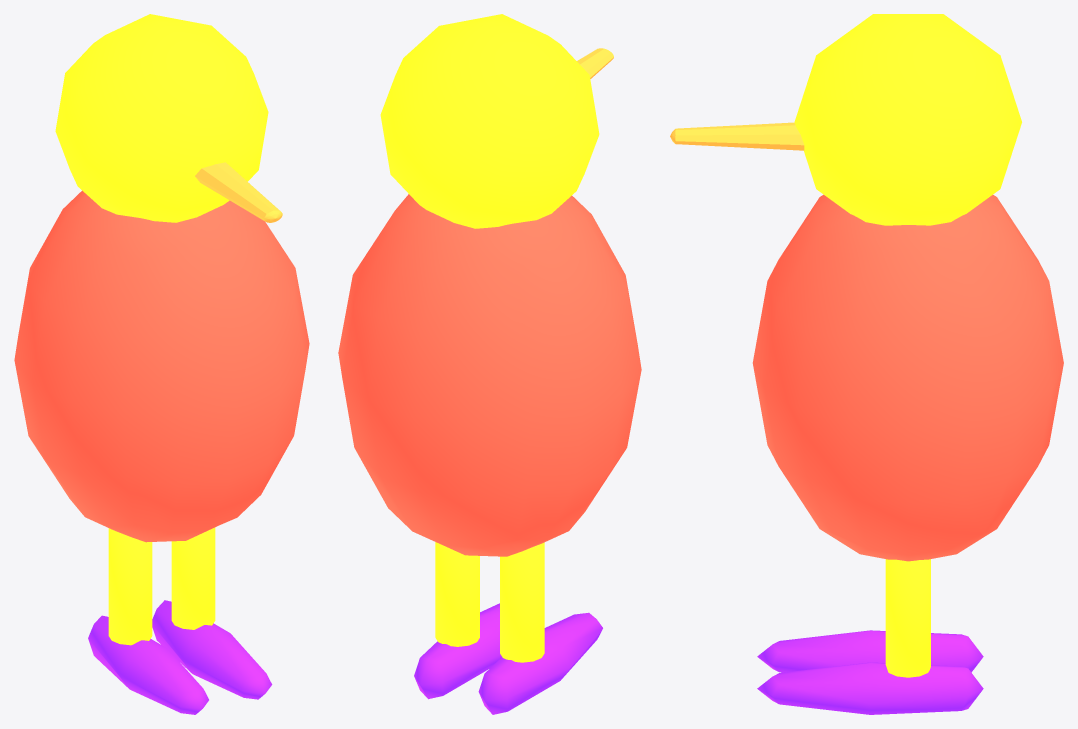
Rendered from testchar1.fbx.
3 renders of one model, left to right at view 1: azimuth 30°, elevation 25°; view 2: azimuth 150°, elevation 25°; view 3: azimuth 270°, elevation 25°, orthographic. The views are drawn at different scales.
Parts seen in each view (by area): view 1: Cube, Icosphere, Cube.002, Cube.001, Cylinder, Cylinder.001, Cylinder.002; view 2: Cube, Icosphere, Cube.002, Cylinder, Cylinder.001, Cube.001, Cylinder.002; view 3: Cube, Icosphere, Cube.001, Cube.002, Cylinder.001, Cylinder.002.
Boxes of the visible parts, x1=… form: Cube: x1=14, y1=190, x2=309, y2=542; Icosphere: x1=55, y1=14, x2=268, y2=222; Cube.002: x1=88, y1=615, x2=208, y2=714; Cube.001: x1=152, y1=600, x2=272, y2=699; Cylinder: x1=108, y1=528, x2=152, y2=645; Cylinder.001: x1=171, y1=527, x2=215, y2=629; Cylinder.002: x1=195, y1=162, x2=282, y2=222; Cube: x1=338, y1=194, x2=641, y2=556; Icosphere: x1=380, y1=14, x2=599, y2=228; Cube.002: x1=478, y1=612, x2=602, y2=714; Cylinder: x1=500, y1=542, x2=544, y2=662; Cylinder.001: x1=435, y1=542, x2=479, y2=646; Cube.001: x1=414, y1=603, x2=501, y2=699; Cylinder.002: x1=577, y1=48, x2=613, y2=78; Cube: x1=752, y1=194, x2=1063, y2=561; Icosphere: x1=794, y1=14, x2=1021, y2=225; Cube.001: x1=757, y1=662, x2=983, y2=714; Cube.002: x1=757, y1=630, x2=983, y2=672; Cylinder.001: x1=885, y1=559, x2=930, y2=677; Cylinder.002: x1=670, y1=122, x2=804, y2=150.
Size of the model in its own units: 410 by 987 by 519.
